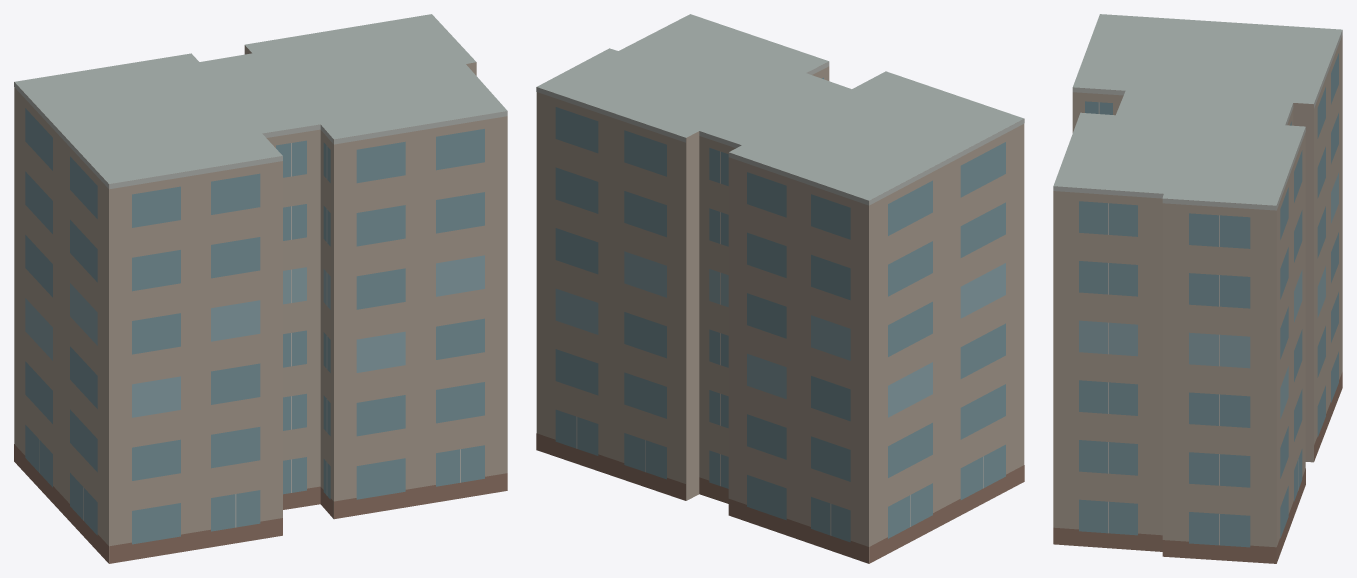
Rendered from survey-upis-32670589.glb.
3 views of the same model, side by side, from view 1: azimuth 30°, elevation 25°; view 2: azimuth 150°, elevation 25°; view 3: azimuth 270°, elevation 25° (orthographic). The views are drawn at different scales.
Visible parts, largest first — view 1: survey-upis-32670589.tmp; view 2: survey-upis-32670589.tmp; view 3: survey-upis-32670589.tmp.
Boxes of the visible parts, x1=… form: survey-upis-32670589.tmp: x1=14, y1=14, x2=507, y2=563; survey-upis-32670589.tmp: x1=536, y1=14, x2=1024, y2=563; survey-upis-32670589.tmp: x1=1053, y1=14, x2=1342, y2=563.
Bounding box in the file's own units: 20.67 × 18 × 13.18.
